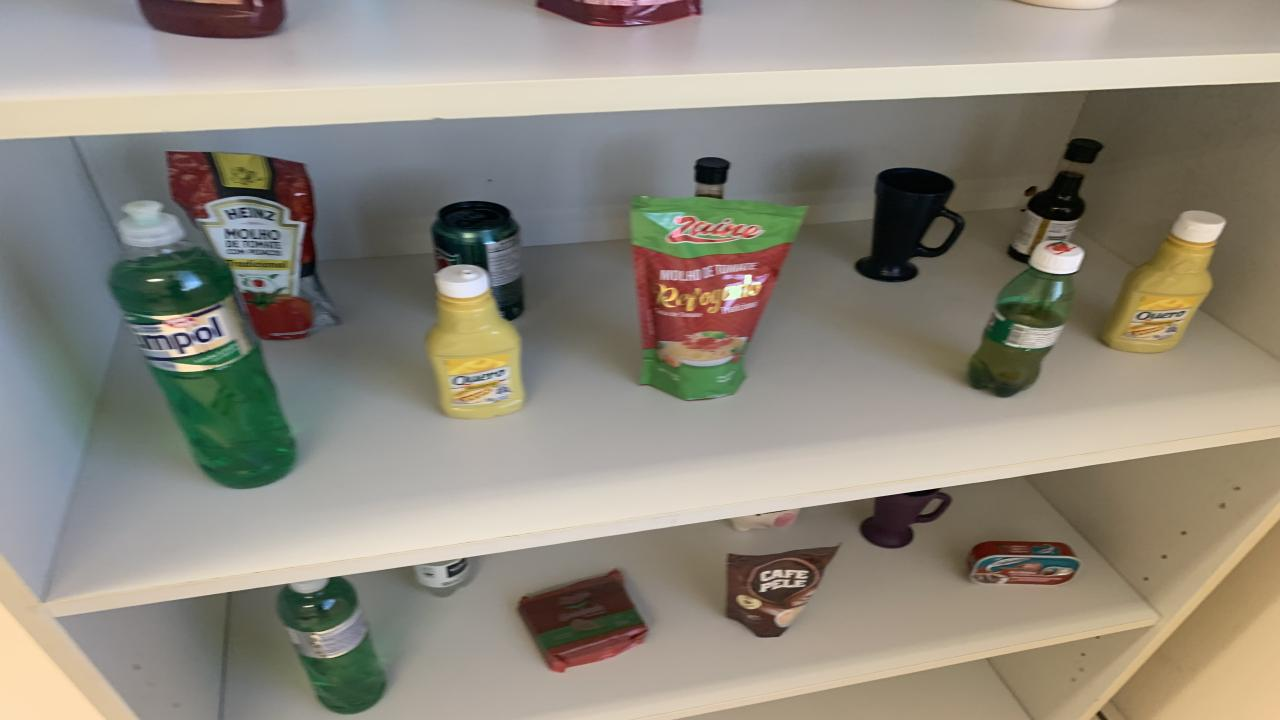Coffee-Pantry_Items: (728, 546, 840, 638)
Detergent-Cleanup_Items: (110, 240, 295, 488), (278, 578, 385, 712), (120, 202, 182, 244)
English_Sauce-Pantry_Items: (1008, 139, 1102, 262), (695, 158, 730, 199)
Guarana-Drinks: (968, 240, 1085, 398)
Guarana_Can-Drinks: (432, 201, 525, 321)
Guava-Snacks: (518, 570, 648, 671)
Ketchup-Pantry_Items: (138, 0, 285, 38)
Mustard-Pantry_Items: (1100, 212, 1225, 352), (425, 264, 525, 418)
Pig_Safe-Miscellaneous: (730, 508, 800, 531)
Soda-Drinks: (412, 559, 470, 589)
Tomato_Sauce-Pantry_Items: (630, 197, 808, 399), (168, 152, 340, 339), (538, 0, 702, 26)
Tuna_Can-Pantry_Items: (968, 542, 1080, 585)
